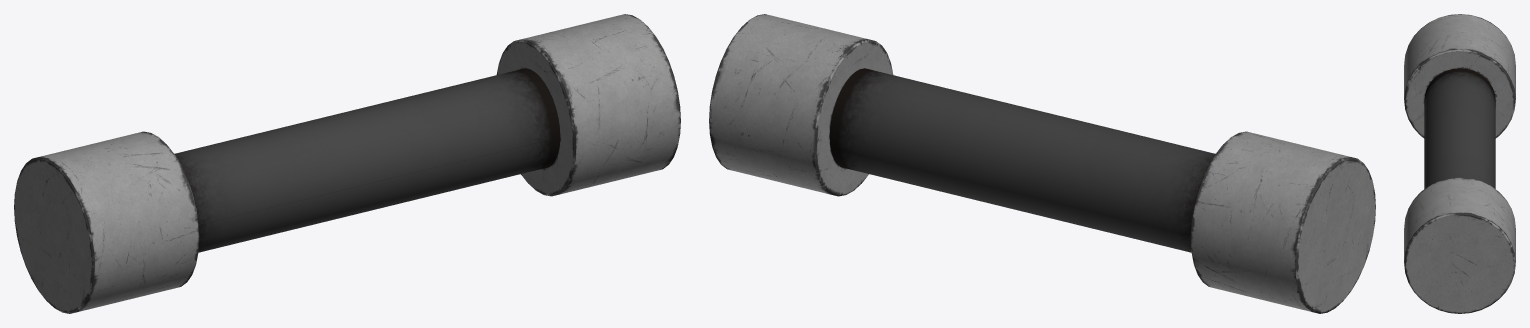
File: Electronic_Fuse.fbx
3 views of the same model, side by side, from view 1: azimuth 30°, elevation 25°; view 2: azimuth 150°, elevation 25°; view 3: azimuth 270°, elevation 25° (orthographic). The views are drawn at different scales.
Visible parts, largest first — view 1: Cylinder; view 2: Cylinder; view 3: Cylinder.
Part boxes in pixels (bbox=[...]): Cylinder: bbox=[14, 14, 680, 313]; Cylinder: bbox=[709, 14, 1375, 313]; Cylinder: bbox=[1404, 14, 1515, 313].
Bounding box in the file's own units: 1100 × 260 × 260.
